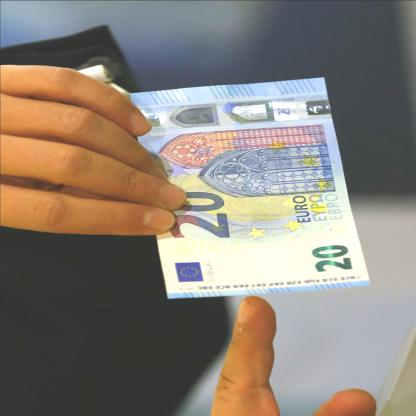euro_banknote: (131, 89, 368, 291)
